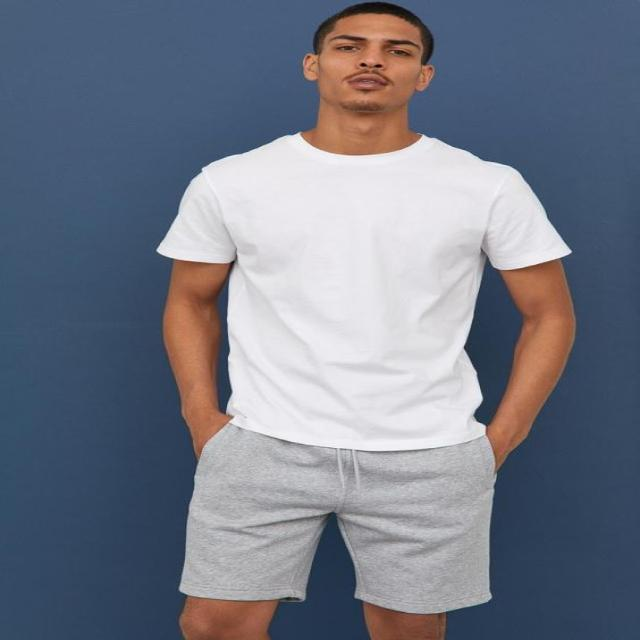Upper-Body: (157, 132, 574, 449)
